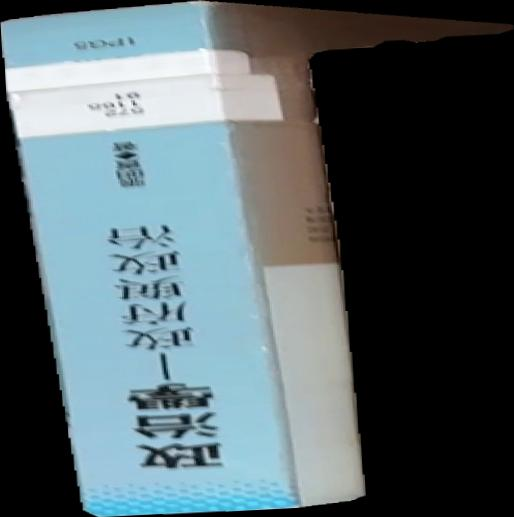reverse: (1, 1, 514, 517)
